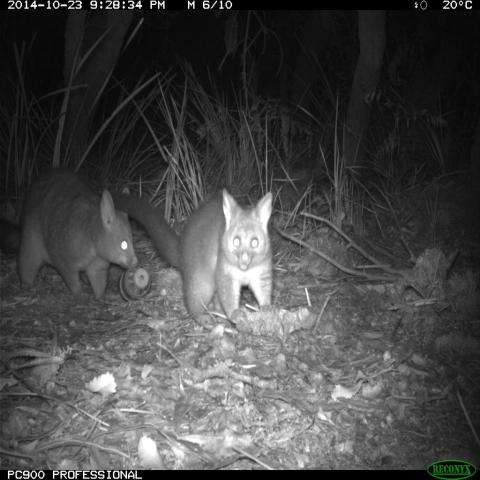small_animal: (113, 185, 276, 327), (0, 166, 139, 305)
